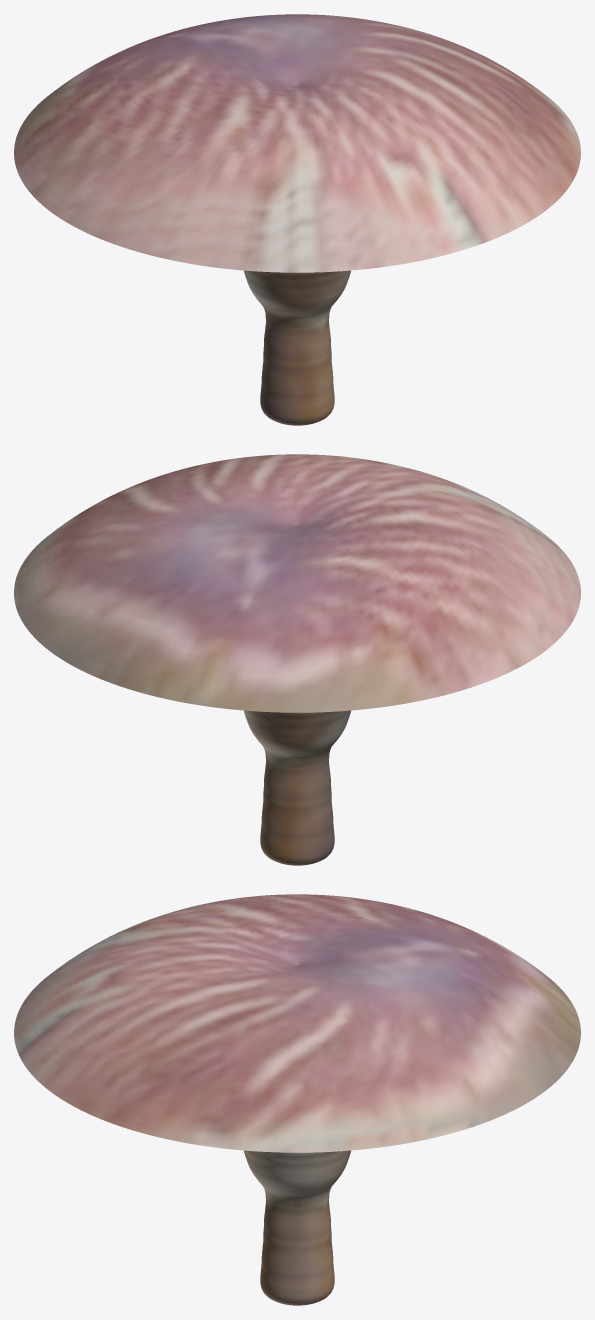
File: CF-001_leucoagaricus.glb
3 views of the same model, one above another, from view 1: azimuth 30°, elevation 25°; view 2: azimuth 150°, elevation 25°; view 3: azimuth 270°, elevation 25° (orthographic).
Parts seen in each view (by area): view 1: geometry_0; view 2: geometry_0; view 3: geometry_0.
Boxes of the visible parts, left/top/right/bottom form: geometry_0: left=14, top=14, right=580, bottom=425; geometry_0: left=14, top=454, right=580, bottom=865; geometry_0: left=14, top=894, right=580, bottom=1305.
Bounding box in the file's own units: 2 × 1.35 × 2.
